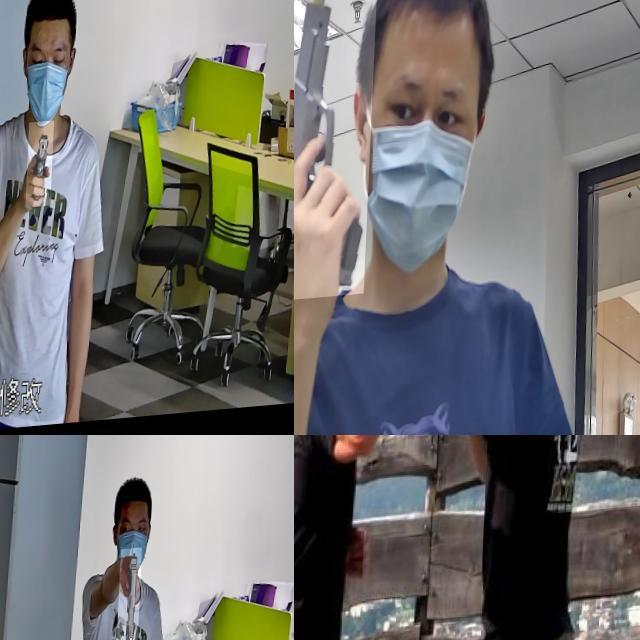-: (389, 435, 465, 497)
gun-knife-thesis - v11 Yolov5 augmented: (294, 0, 377, 306), (29, 126, 58, 214), (119, 554, 144, 640)
